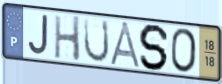A: (108, 20, 144, 70)
H: (53, 14, 82, 64)
J: (27, 14, 50, 57)
O: (170, 26, 198, 75)
S: (138, 23, 172, 72)
U: (82, 16, 111, 65)
